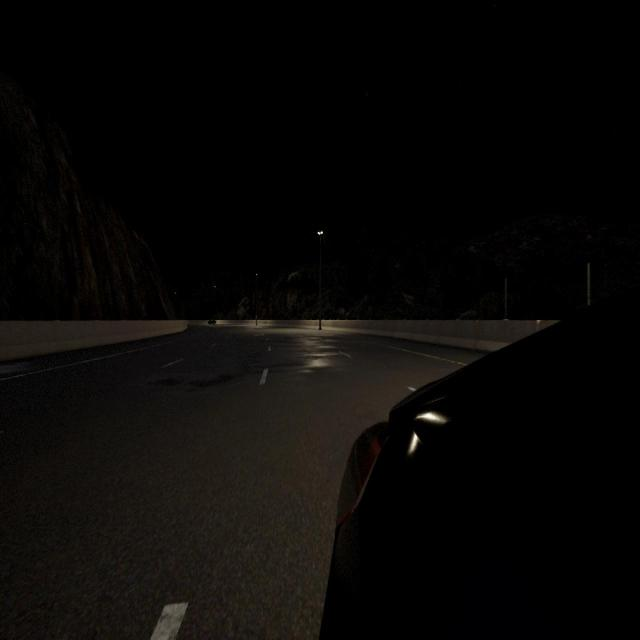Vehicle: (320, 286, 640, 637), (208, 319, 216, 325)
